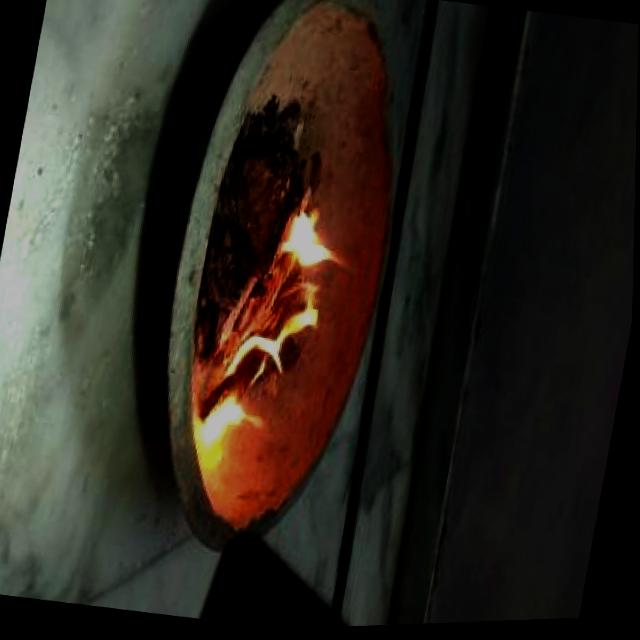helmet: (274, 184, 367, 289), (235, 286, 327, 381), (196, 386, 275, 469)
